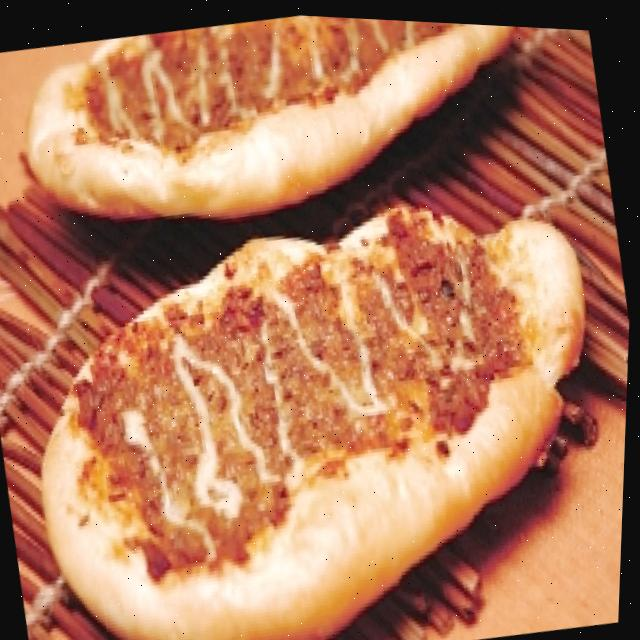三明治: (0, 117, 637, 640)
